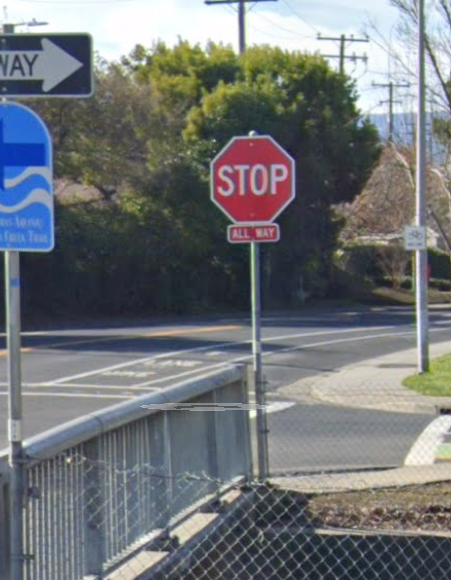stop_sign: (212, 137, 296, 223)
